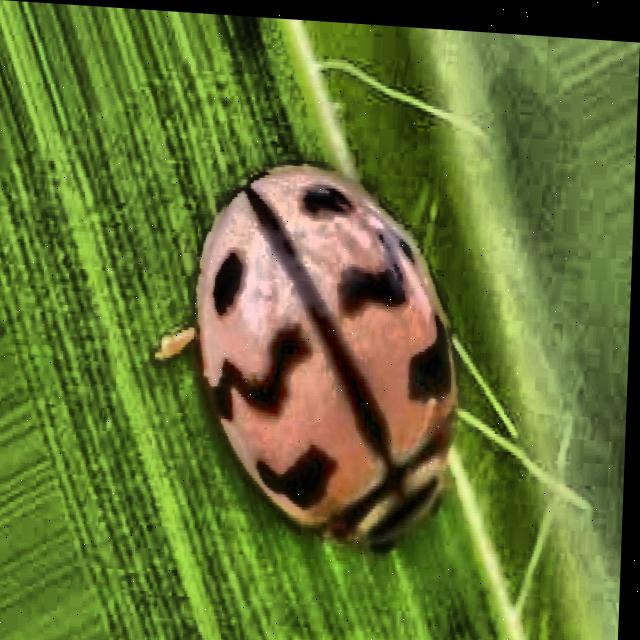Asian-Lady-beetle: (159, 101, 486, 640)
